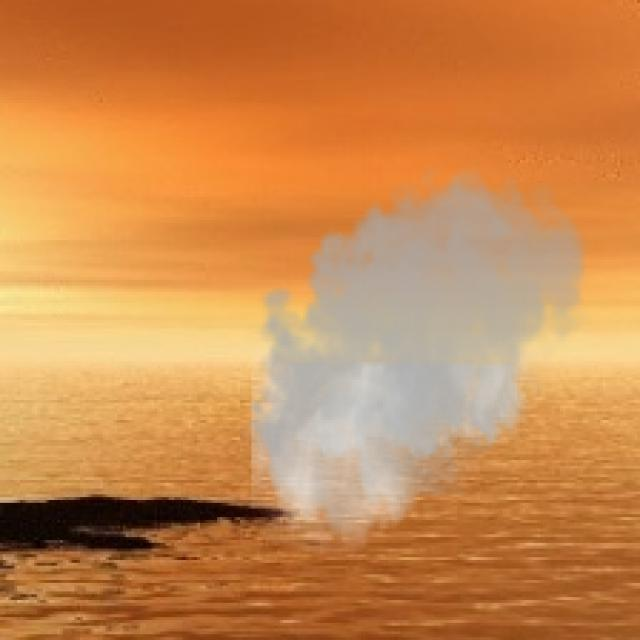Smoke: (237, 154, 594, 552)
